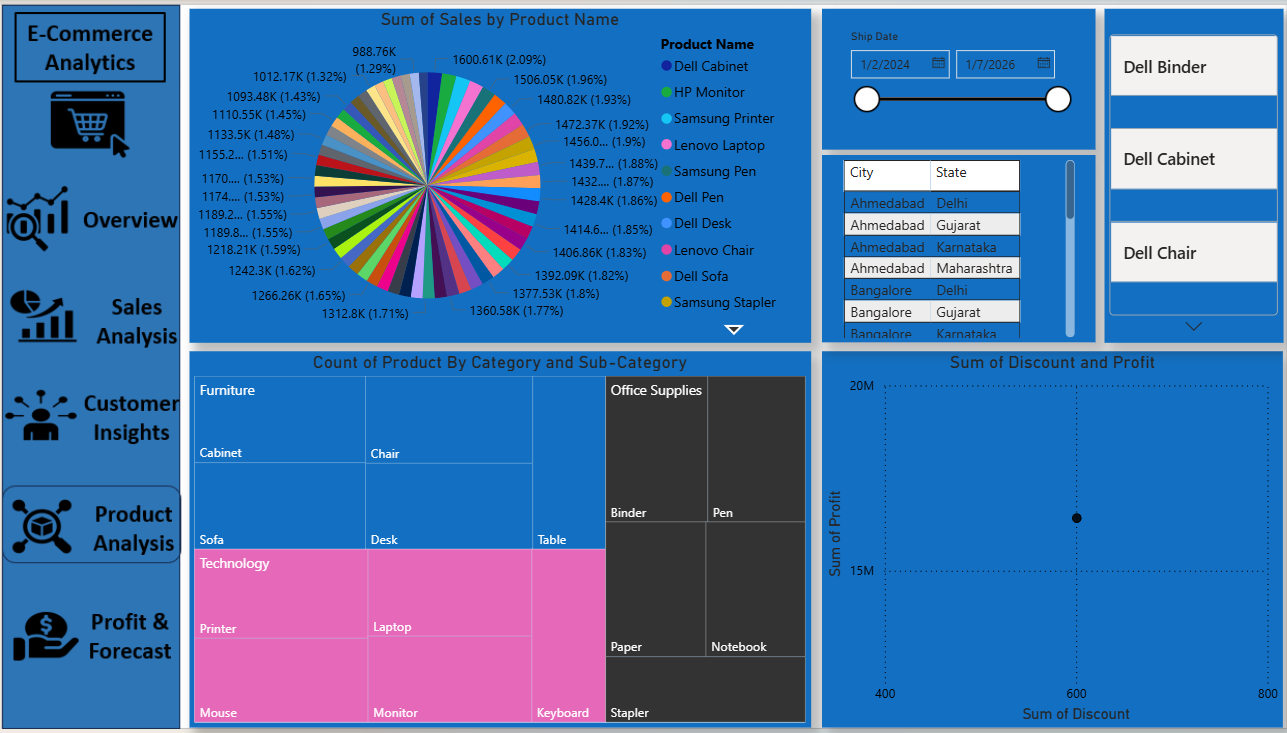

Layout of this report page (visuals, bound fields, positions):
{"tool":"powerbi","page":{"name":"Product Analysis","canvas":[1280,720],"ordinal":3},"visuals":[{"type":"actionButton","box":[24.7,262.1,175.6,76.8],"z":0},{"type":"actionButton","box":[24.7,359.5,175.6,71.4],"z":1000},{"type":"actionButton","box":[24.7,467.9,175.6,72.7],"z":2000},{"type":"actionButton","box":[24.7,573.6,175.6,75.5],"z":3000},{"type":"actionButton","box":[24.7,166,175.6,78.2],"z":4000},{"type":"pieChart","fields":{"Category":["Orders_Data.Product Name"],"Y":["Sum(Orders_Data.Sales)"]},"box":[200.3,15.7,599.6,314.9],"z":5000},{"type":"treemap","title":"Count of Product By Category and Sub-Category","fields":{"Group":["Orders_Data.Category"],"Values":["CountNonNull(Orders_Data.Product Name)"],"Details":["Orders_Data.Sub-Category"]},"box":[200.3,339,599.6,330.6],"z":6000},{"type":"scatterChart","title":"Sum of Discount and  Profit","fields":{"X":["Sum(Orders_Data.Discount)"],"Y":["Sum(Orders_Data.Profit)"]},"box":[810.7,339,445.2,330.6],"z":7000},{"type":"slicer","fields":{"Values":["Orders_Data.Ship Date"]},"box":[810.7,15.7,264.2,129.1],"z":8000},{"type":"tableEx","fields":{"Values":["Orders_Data.City","Orders_Data.State"]},"box":[810.7,149.6,264.2,181],"z":9000},{"type":"cardVisual","fields":{"Rows":["Orders_Data.Product Name"]},"box":[1083.4,15.7,172.5,314.9],"z":9001}]}

Visuals, with their boxes in screenshot pixels (x1, y1, x2, y2), scaled from the page's 1280x720 canvas onto the 1287x733 screenshot:
actionButton: rect(25, 267, 201, 345)
actionButton: rect(25, 366, 201, 439)
actionButton: rect(25, 476, 201, 550)
actionButton: rect(25, 584, 201, 661)
actionButton: rect(25, 169, 201, 249)
pieChart - Orders_Data.Product Name x Sum(Orders_Data.Sales): rect(201, 16, 804, 337)
"Count of Product By Category and Sub-Category" treemap: rect(201, 345, 804, 682)
"Sum of Discount and  Profit" scatterChart: rect(815, 345, 1263, 682)
slicer - Orders_Data.Ship Date: rect(815, 16, 1081, 147)
tableEx - Orders_Data.City x Orders_Data.State: rect(815, 152, 1081, 337)
cardVisual - Orders_Data.Product Name: rect(1089, 16, 1263, 337)
